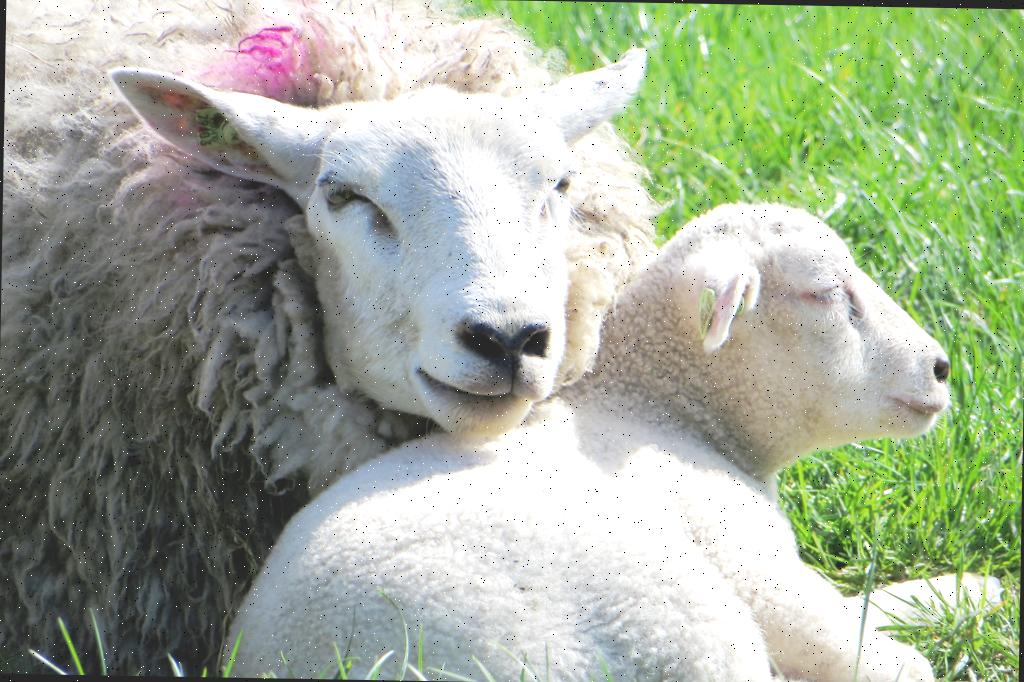Sheep: (10, 4, 680, 654), (214, 191, 984, 674)
